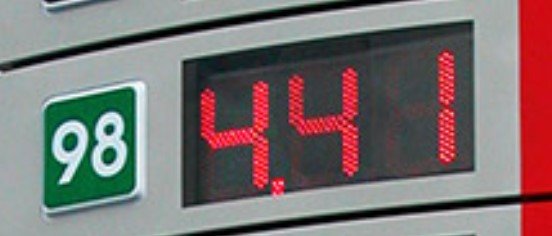digits: (193, 65, 276, 200), (284, 61, 364, 185), (394, 35, 465, 172)
